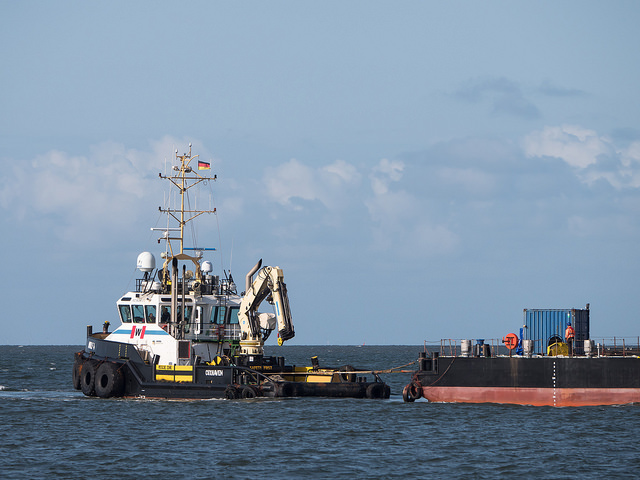tug_boat: (74, 139, 403, 412)
